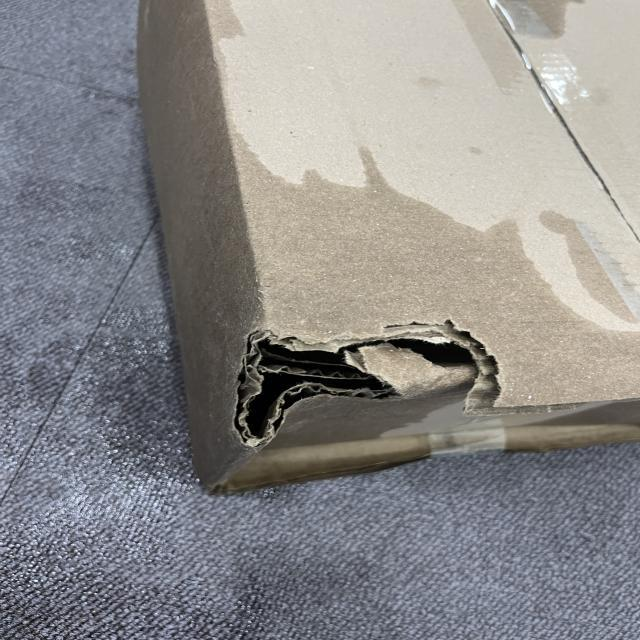hole: (238, 316, 526, 459)
wet: (213, 156, 640, 503)
